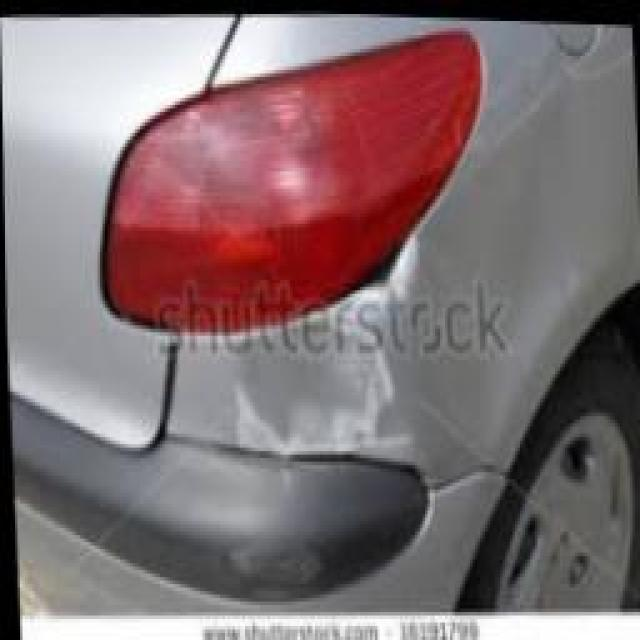Bumper: (18, 411, 515, 640)
Fender: (168, 39, 640, 462)
